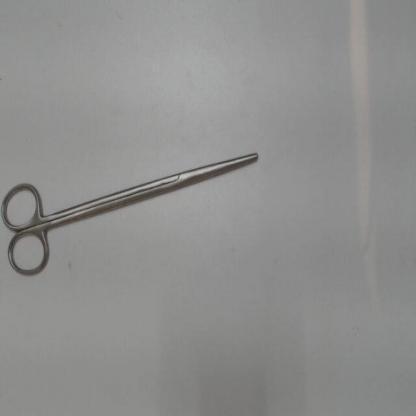9 Metzenbaum Scissors: (1, 150, 265, 288)
